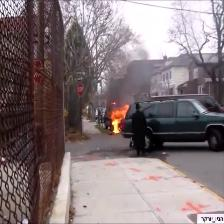fire: (98, 101, 129, 138)
nofire: (36, 56, 45, 87)
